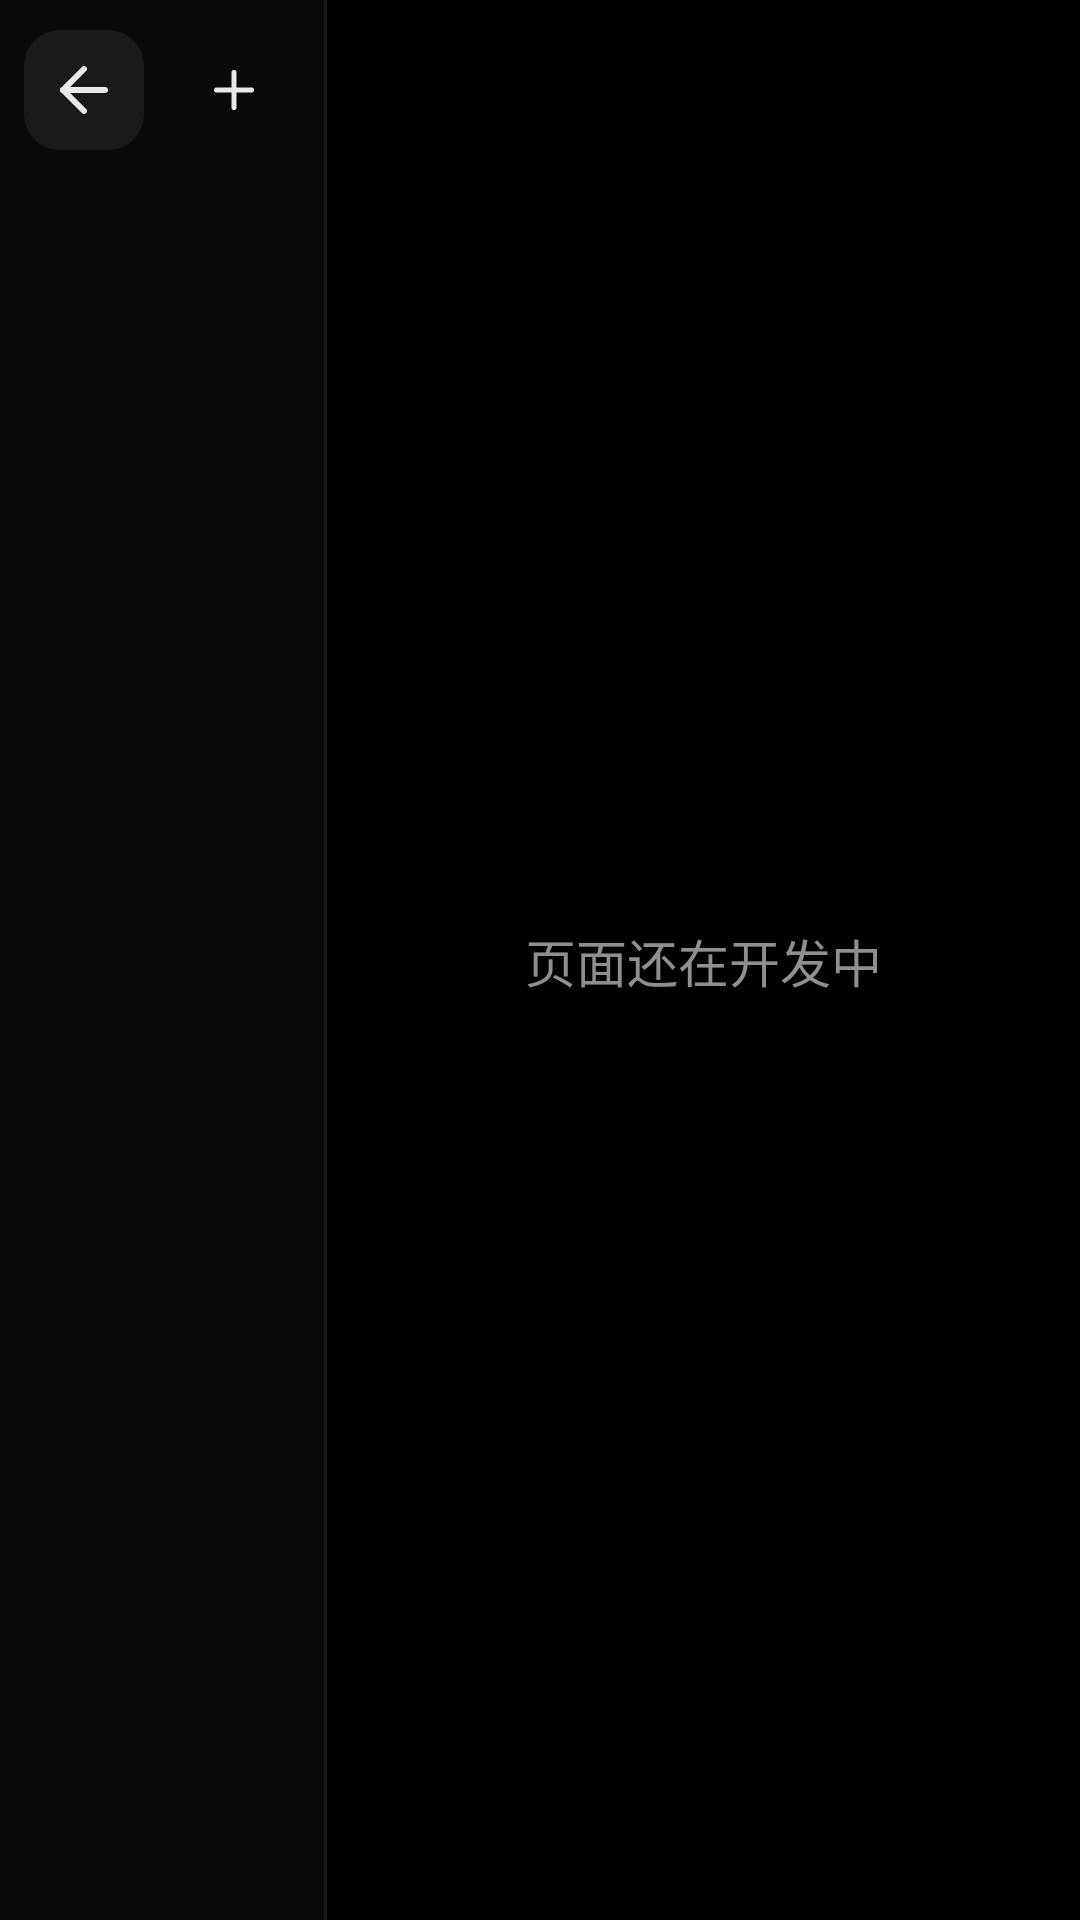

Where icons sit on this 1080w x 1920h app screen, as (x1, y1, x2, y2):
新建对话: (214, 70, 254, 110)
返回: (24, 30, 144, 150)
